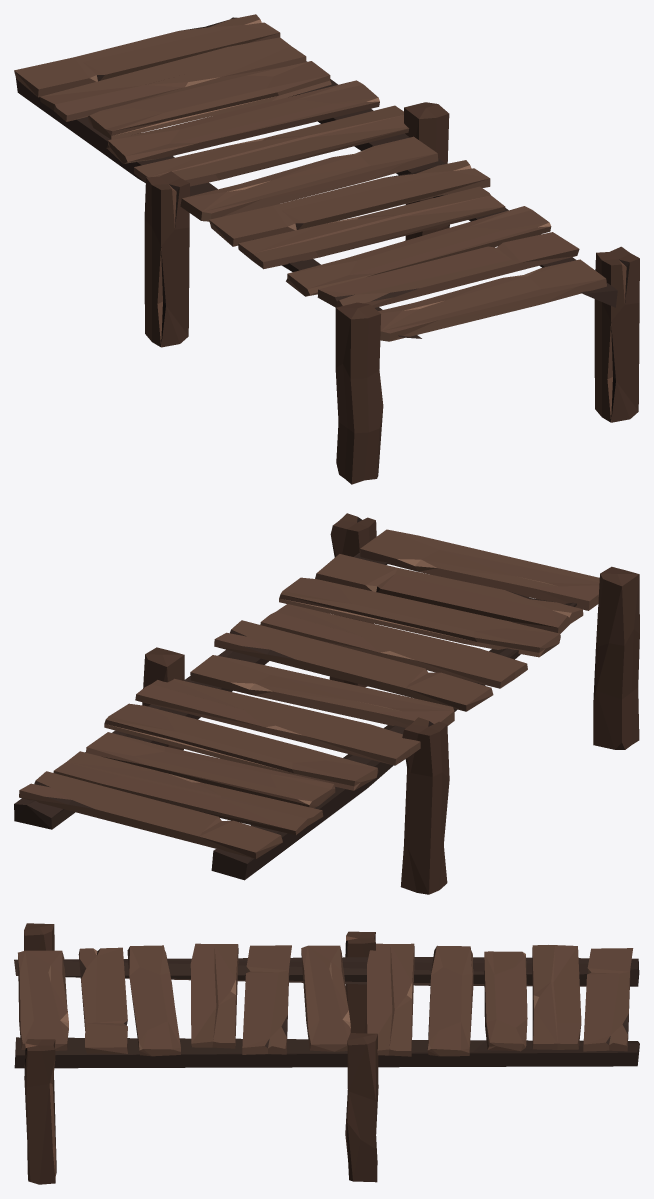
Rendered from DocksModuleMedium_01.glb.
3 renders of one model, top to bottom at view 1: azimuth 30°, elevation 25°; view 2: azimuth 150°, elevation 25°; view 3: azimuth 270°, elevation 25°, orthographic. The views are drawn at different scales.
Visible parts, largest first — view 1: DocksModuleMedium_01; view 2: DocksModuleMedium_01; view 3: DocksModuleMedium_01.
Part boxes in pixels (x1,y1,x2,y2): DocksModuleMedium_01: (14,14,639,484); DocksModuleMedium_01: (14,513,639,894); DocksModuleMedium_01: (14,923,639,1184).
Size of what is drawn, in the model's own units: 1.83 by 1.03 by 4.02.
Materials: 1 (1 with a texture image).
